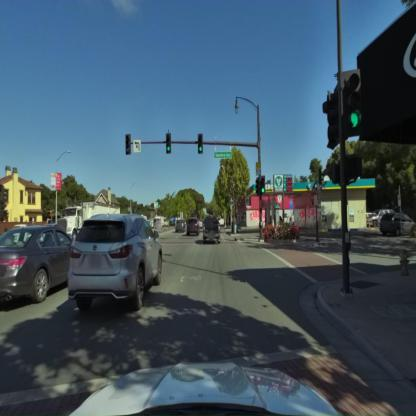car: (66, 214, 165, 312), (0, 223, 75, 309), (379, 212, 414, 237), (201, 217, 220, 245), (187, 217, 200, 236)
fire hydrant: (398, 249, 412, 276)
